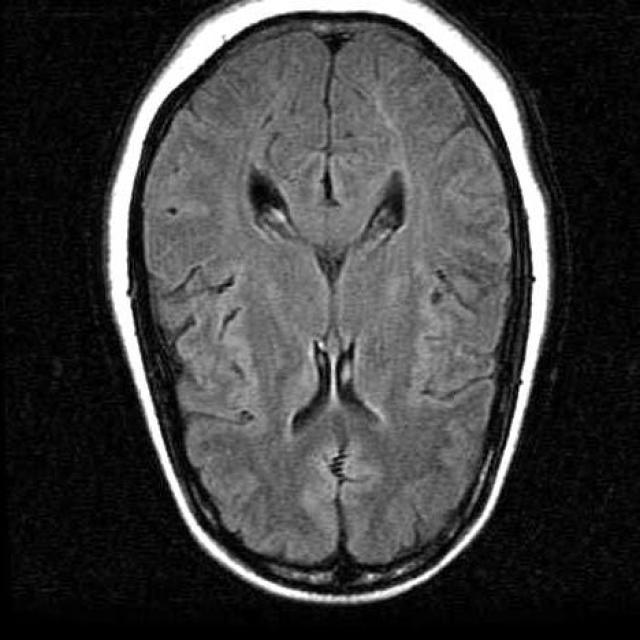notumor: (107, 0, 551, 604)
